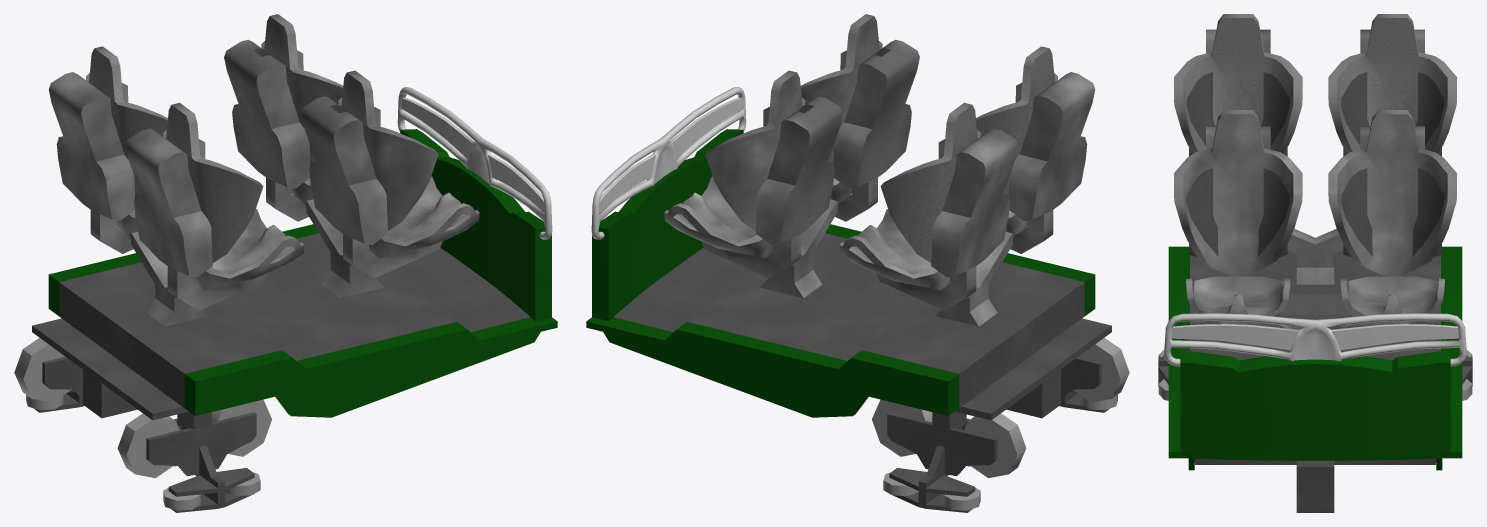
Rendered from car.obj.
The picture shows the model from 3 angles, left to right: view 1: azimuth 30°, elevation 25°; view 2: azimuth 150°, elevation 25°; view 3: azimuth 270°, elevation 25°; orthographic projection.
Size of the model in its own units: 2.59 by 2.11 by 1.63.
